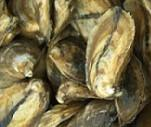3: (0, 81, 49, 127), (122, 0, 151, 64), (50, 37, 86, 86)
Oyster-Closed: (115, 55, 147, 121), (71, 0, 109, 40), (38, 102, 85, 127), (51, 0, 77, 40), (0, 0, 18, 45), (38, 0, 51, 40)
Oyster-Open: (85, 7, 136, 99), (0, 39, 42, 81), (69, 100, 116, 127), (57, 82, 104, 102), (10, 0, 41, 30)
